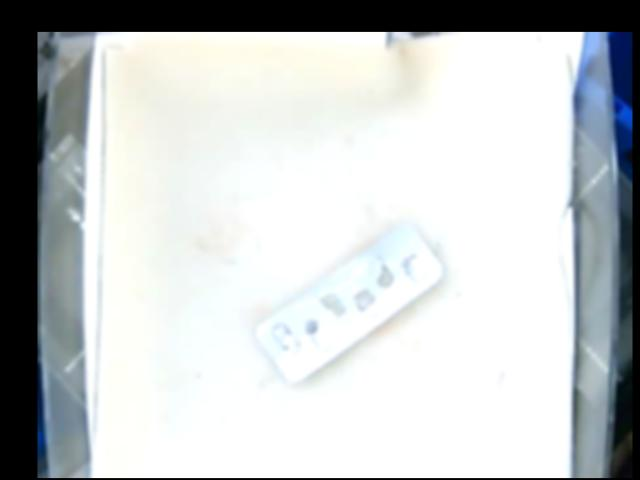Medicine: (257, 224, 444, 383)
